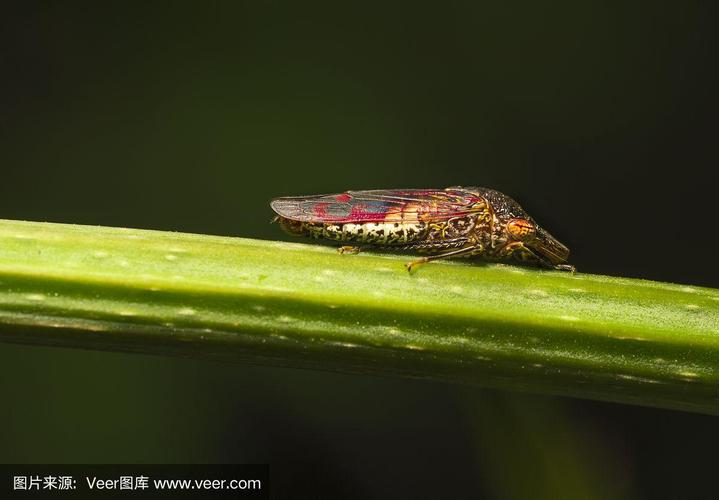Cicadellidae: (267, 185, 571, 269)
